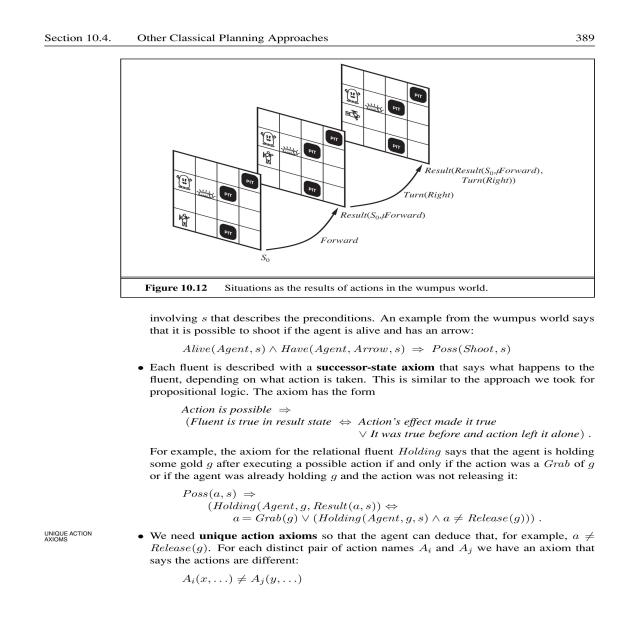diagram: (99, 51, 618, 299)
